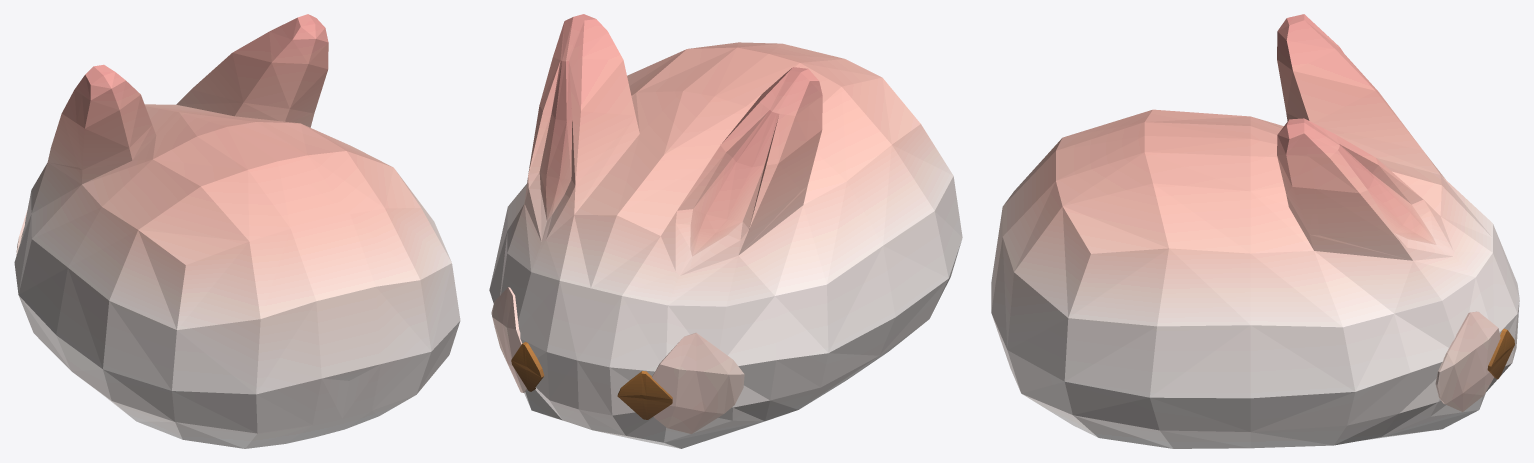
The model's file is CharSkyKid_Horn_Bunny_01.glb.
3 views of the same model, side by side, from view 1: azimuth 30°, elevation 25°; view 2: azimuth 150°, elevation 25°; view 3: azimuth 270°, elevation 25° (orthographic). The views are drawn at different scales.
Parts seen in each view (by area): view 1: CharSkyKid_Horn_Bunny_01; view 2: CharSkyKid_Horn_Bunny_01; view 3: CharSkyKid_Horn_Bunny_01.
Boxes of the visible parts, bbox=[...] form: CharSkyKid_Horn_Bunny_01: bbox=[14, 14, 460, 448]; CharSkyKid_Horn_Bunny_01: bbox=[489, 14, 962, 448]; CharSkyKid_Horn_Bunny_01: bbox=[991, 14, 1519, 448].
Size of the model in its own units: 1.4 by 1.28 by 1.79.
Materials: 1 (1 with a texture image).
